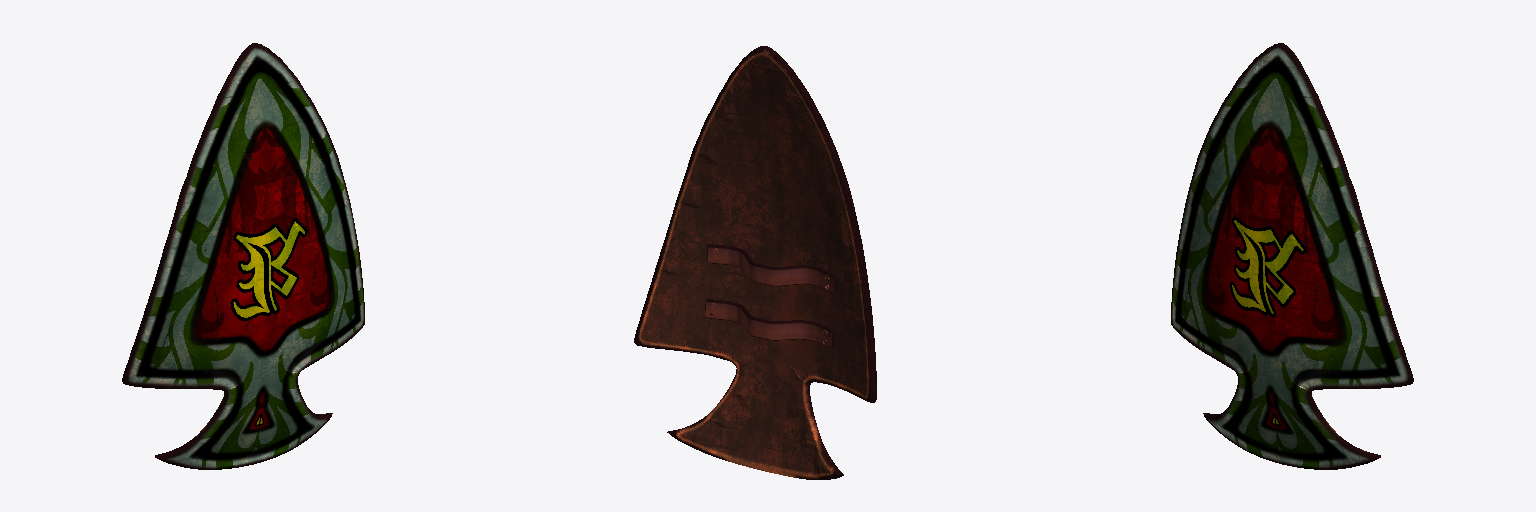
3 views of the same model, side by side, from view 1: azimuth 30°, elevation 25°; view 2: azimuth 150°, elevation 25°; view 3: azimuth 330°, elevation 25° (orthographic).
Parts seen in each view (by area): view 1: Object__0; view 2: Object__0; view 3: Object__0.
Boxes of the visible parts, box(x1,y1,x2,y2) form: Object__0: box(122, 43, 364, 469); Object__0: box(634, 46, 876, 479); Object__0: box(1171, 43, 1413, 469).
Size of the model in its own units: 0.6111 by 1.02 by 0.1307.
4 materials, 3 textured.